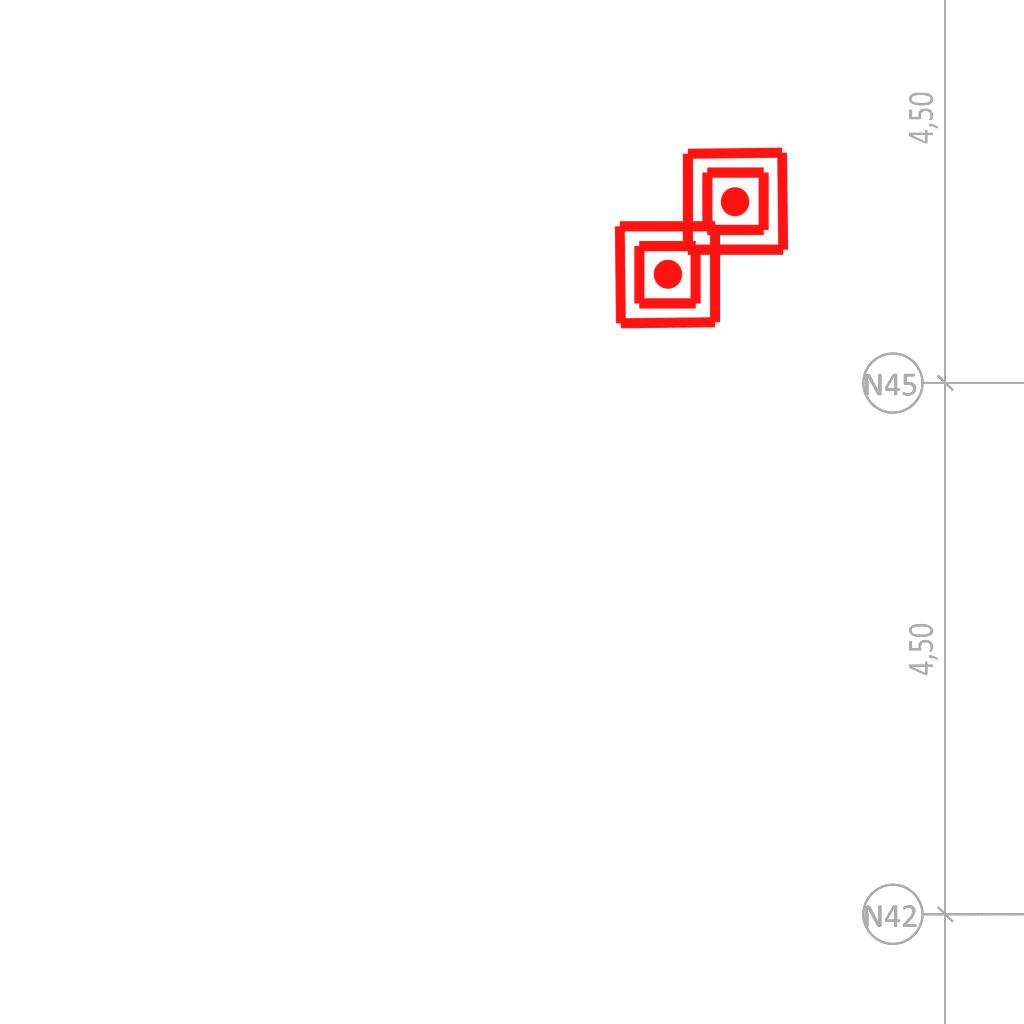NAM-Nichtautomatischer_Melder: (679, 145, 792, 258), (611, 218, 724, 331)
